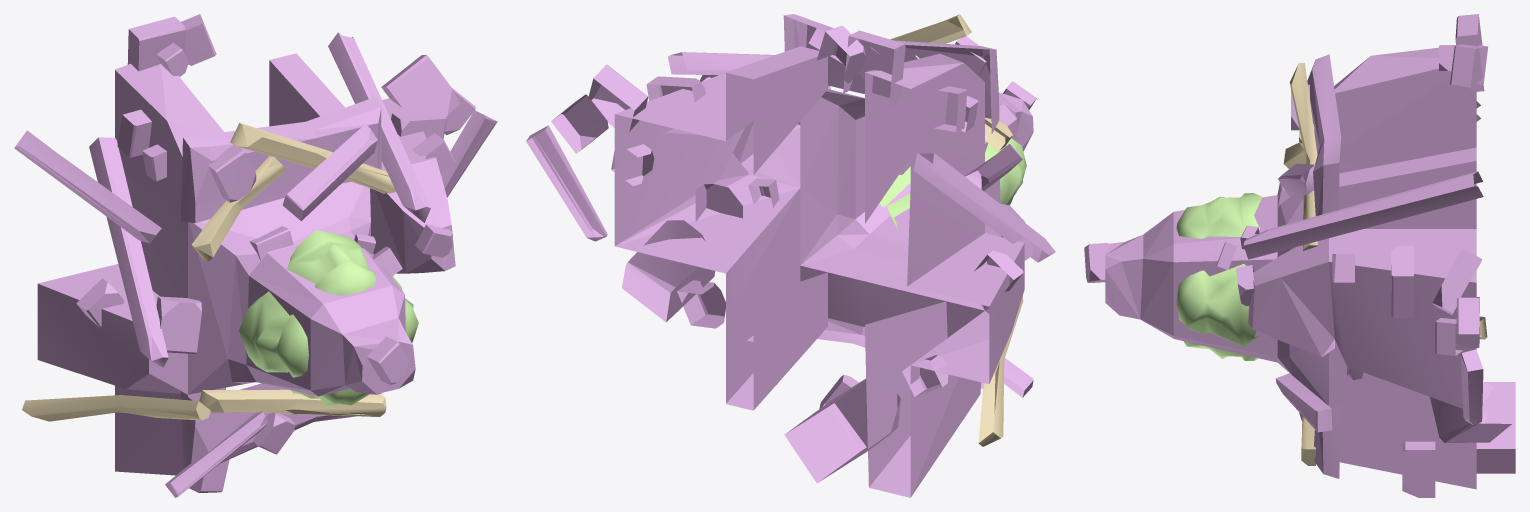
The picture shows the model from 3 angles, left to right: view 1: azimuth 30°, elevation 25°; view 2: azimuth 150°, elevation 25°; view 3: azimuth 270°, elevation 25°; orthographic projection.
Visible parts, largest first — view 1: Object17; view 2: Object17; view 3: Object17.
Part boxes in pixels (x1,y1,x2,y2): Object17: (14, 14, 497, 497); Object17: (526, 14, 1055, 497); Object17: (1084, 14, 1515, 497).
Size of the model in its own units: 47646 by 41429 by 36514.
